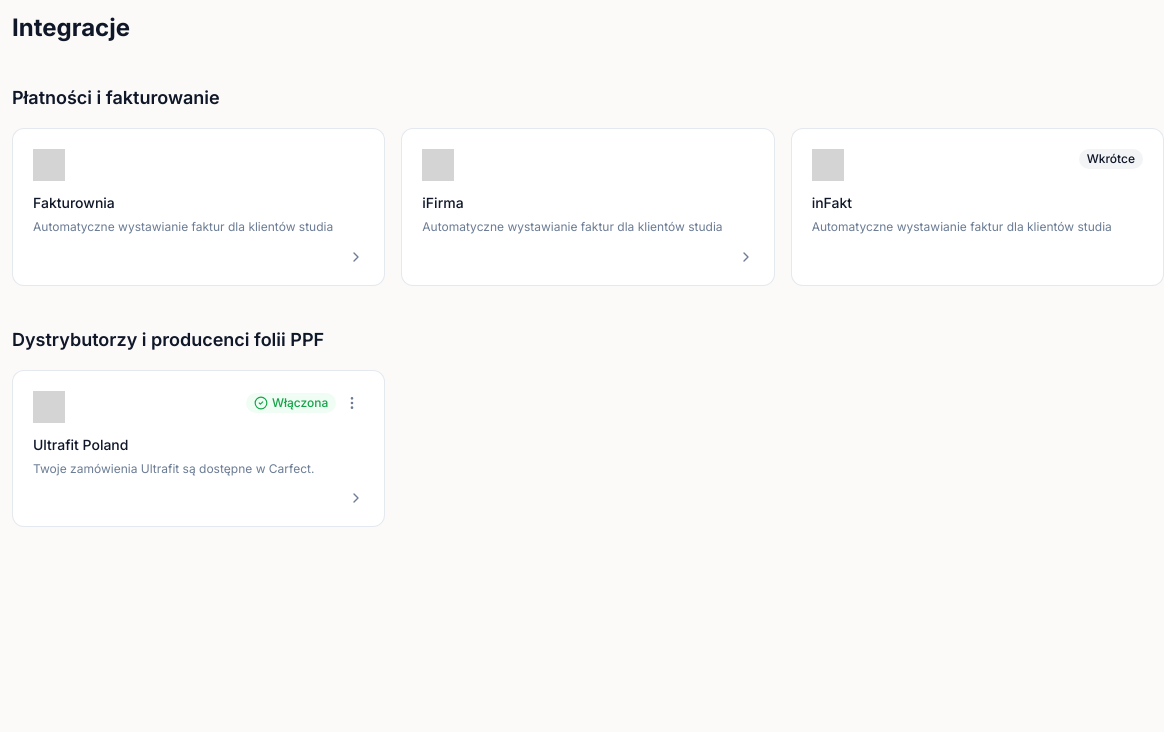
Test: IntegrationsView › shows disconnect option in menu when Ultrafit is linked
Click the 3rd button at (352, 402), box left=340, top=390, right=364, bottom=414
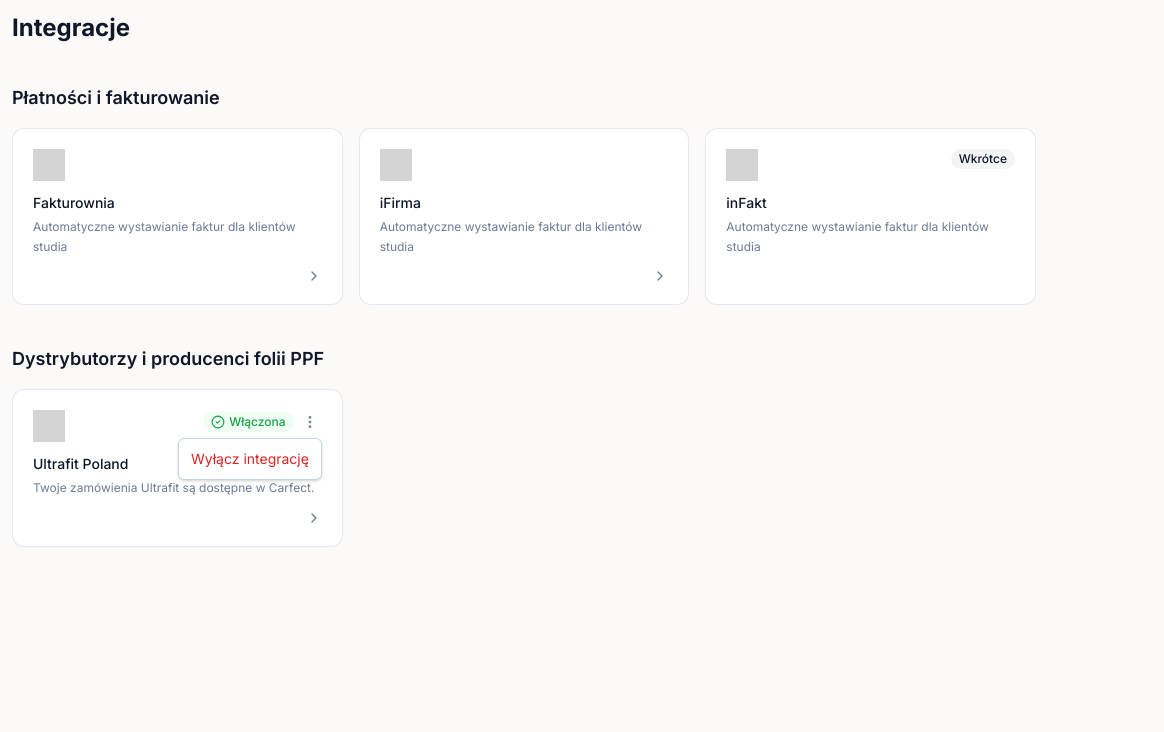
Result: the menu item "Wyłącz integrację" is shown at left=183, top=443, right=317, bottom=475
